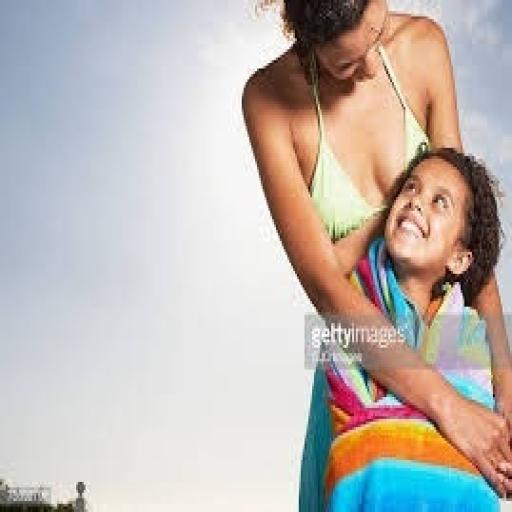hugging: (239, 0, 510, 509)
